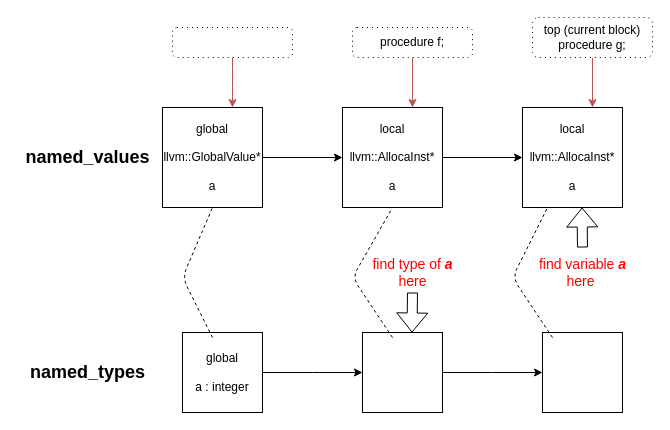
Image size: 670x430. Some labels were removed from this diagram. The shapes that lost their labels are listed below. From the top down, each one's centre as x and y in pixels, then its label:
At point 232,42: "main".
At point 402,372: "local a : integer".
At point 582,372: "local empty".
